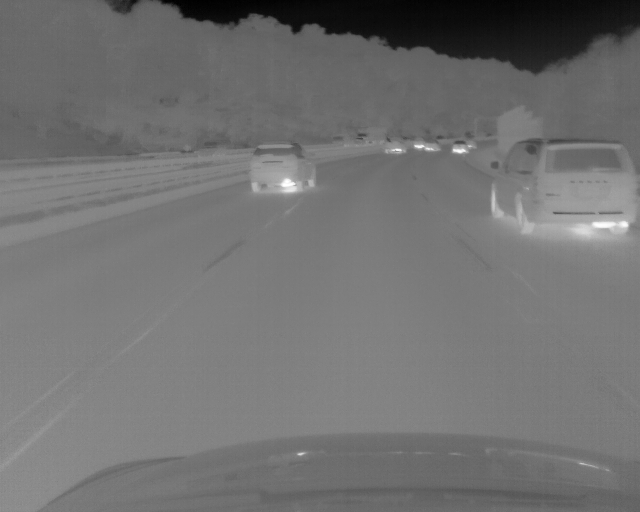car: (489, 137, 637, 236), (250, 142, 316, 192), (383, 133, 406, 154), (452, 140, 471, 154), (354, 131, 375, 142), (425, 140, 441, 152), (330, 134, 346, 142), (413, 140, 425, 149)
